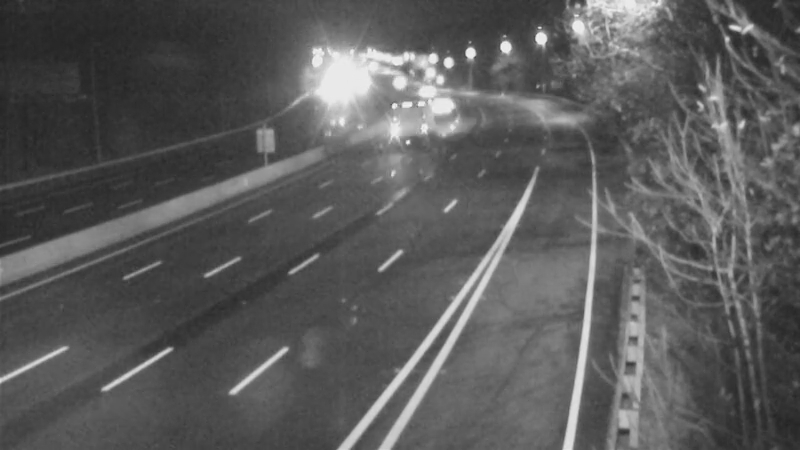vehicle: (368, 54, 418, 104), (399, 66, 449, 116), (415, 85, 465, 135), (391, 88, 441, 138)
